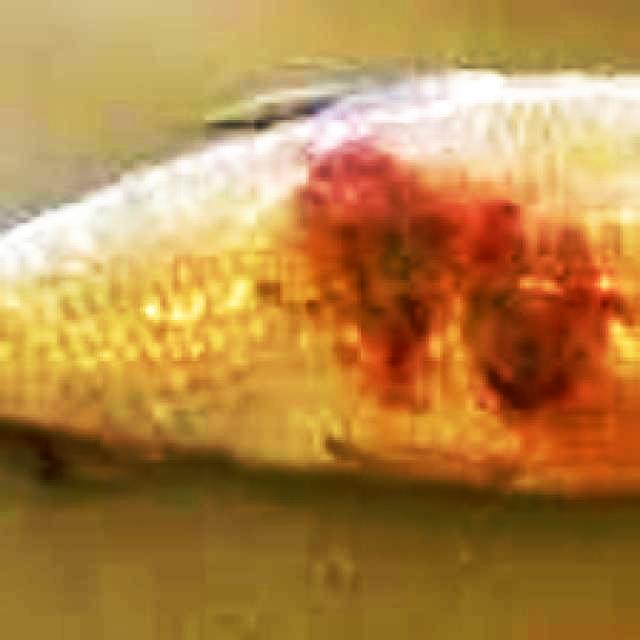Edwardsiella Ictaluri -Bacterial Red Disease-: (0, 69, 639, 494)
